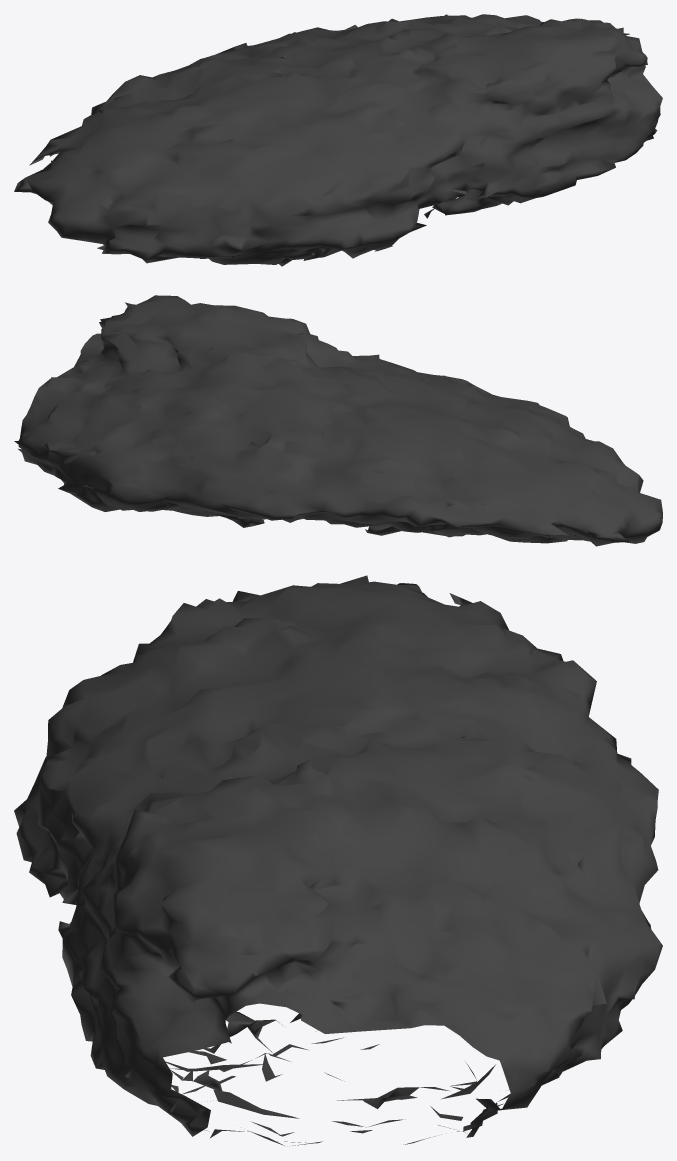
File: reclining-1.glb
3 views of the same model, one above another, from view 1: azimuth 30°, elevation 25°; view 2: azimuth 150°, elevation 25°; view 3: azimuth 270°, elevation 25° (orthographic). The views are drawn at different scales.
Visible parts, largest first — view 1: geometry_0; view 2: geometry_0; view 3: geometry_0.
Boxes of the visible parts, left/top/right/bottom form: geometry_0: left=14, top=14, right=662, bottom=266; geometry_0: left=14, top=295, right=662, bottom=546; geometry_0: left=14, top=575, right=662, bottom=1145.
Size of the model in its own units: 3.86 by 1 by 2.2.
Materials: 1 (1 with a texture image).
